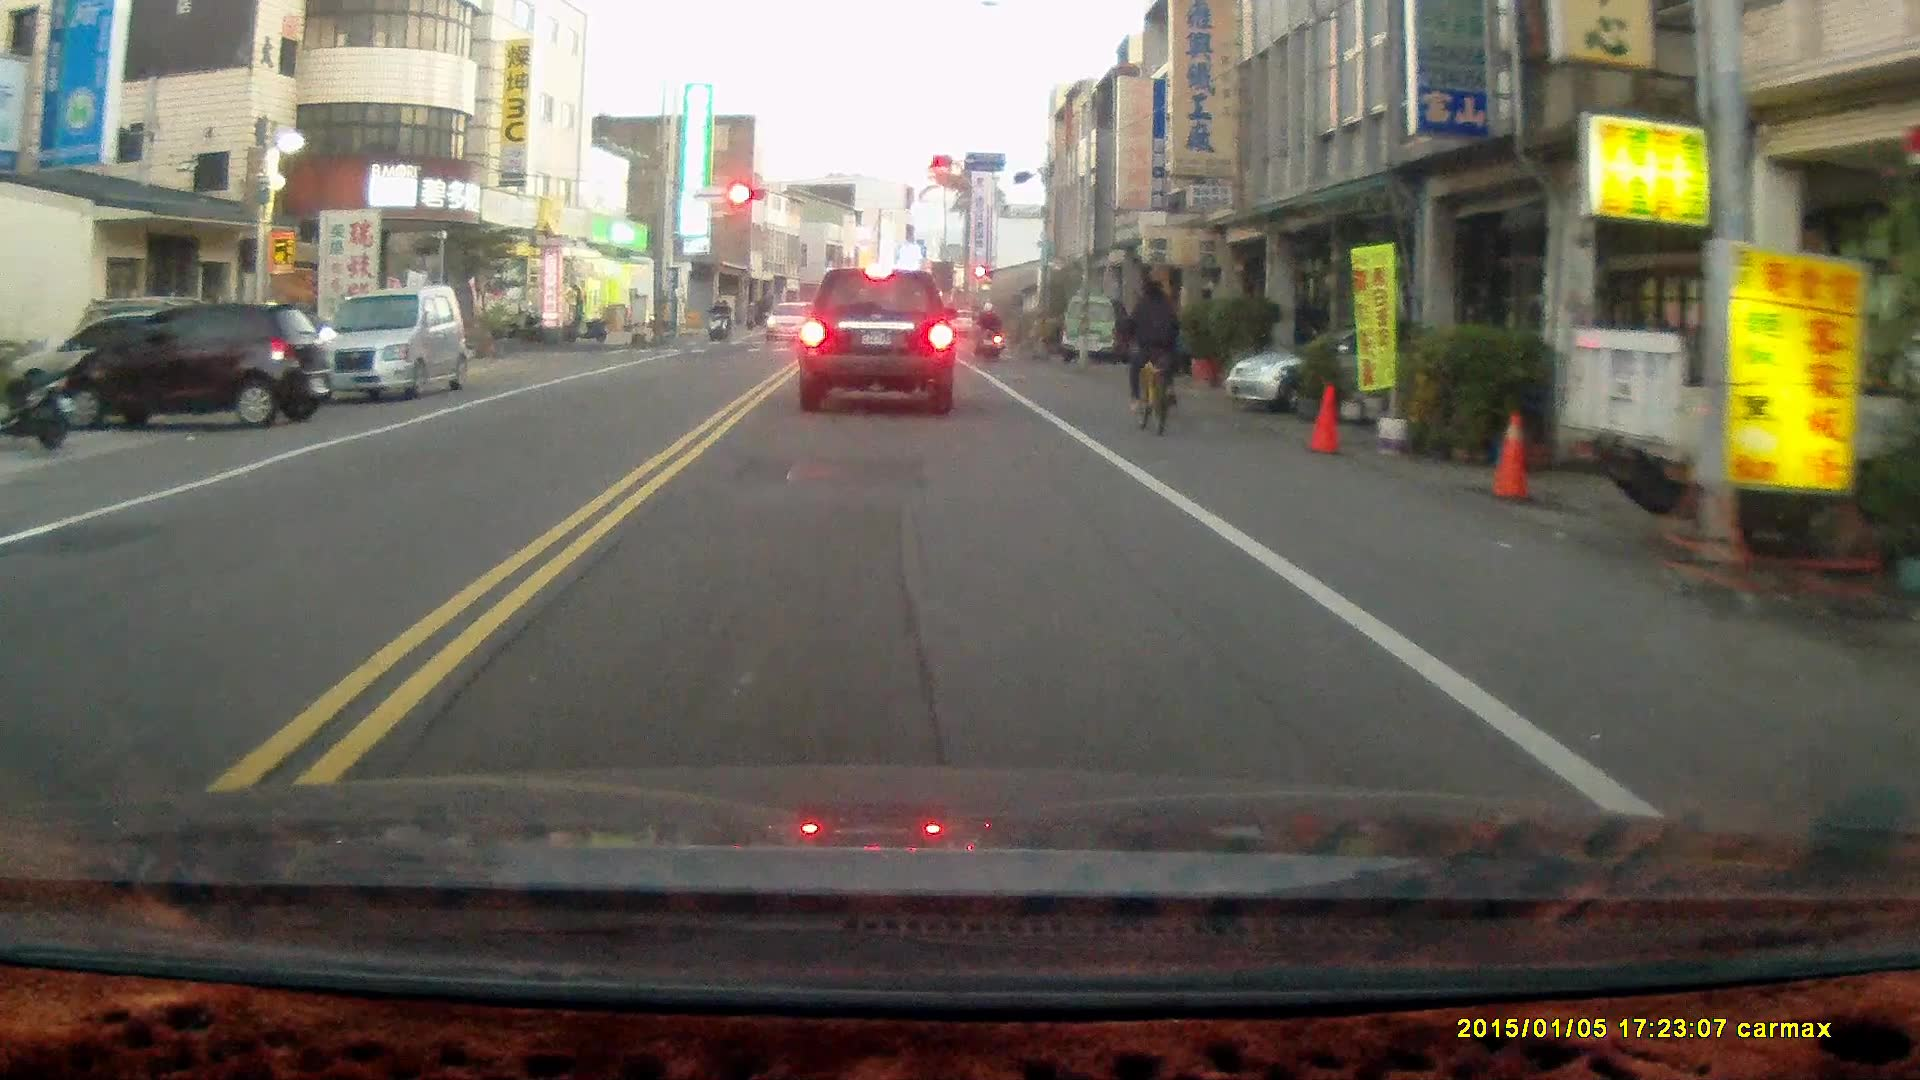rider: (1123, 275, 1178, 436), (969, 298, 1001, 363), (704, 297, 728, 344)
vehicle: (46, 297, 331, 433), (1222, 323, 1495, 421), (795, 266, 957, 416), (305, 284, 468, 406), (1060, 295, 1125, 363)
